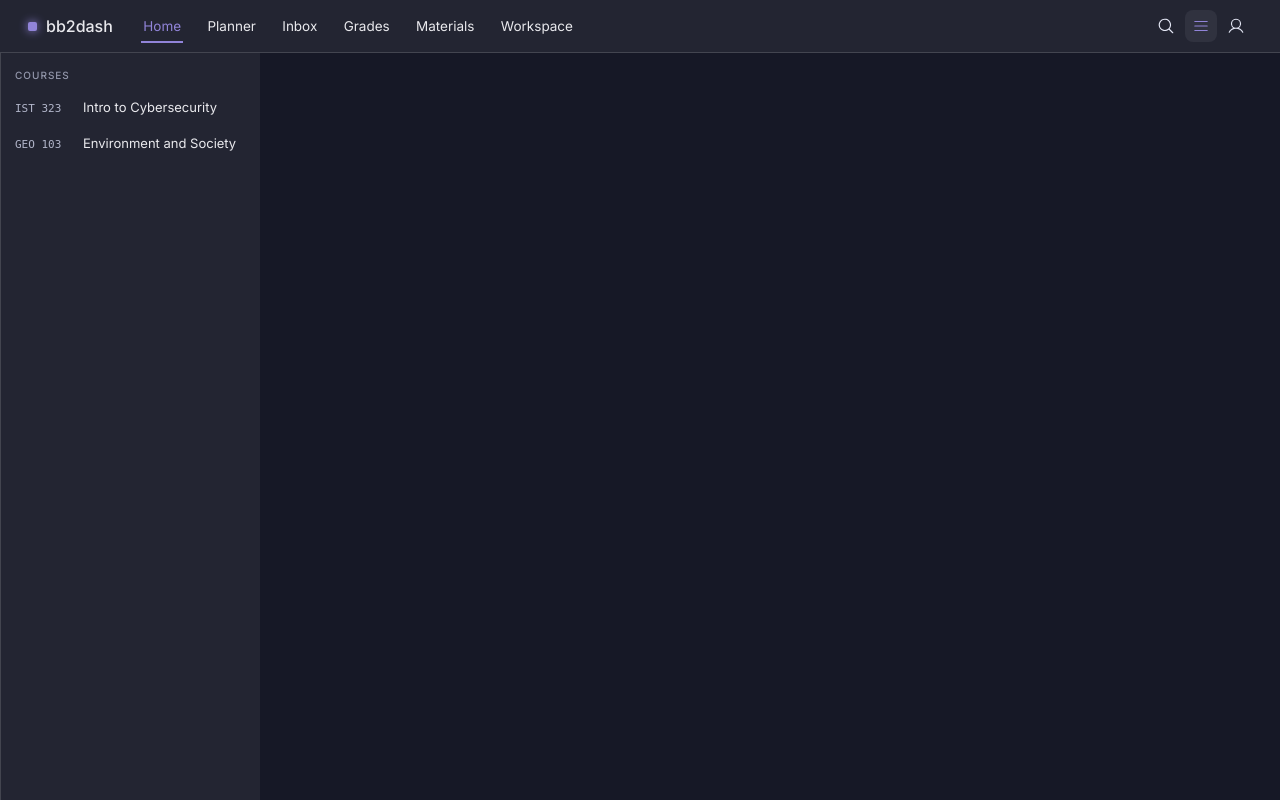
Scenario: TopNav — the account menu (usePopover, reshaped in Phase 17) › opens on click and says who is signed in
Step 1. Click the button named "Account" → (1236, 26), box [1220,10,1252,42]
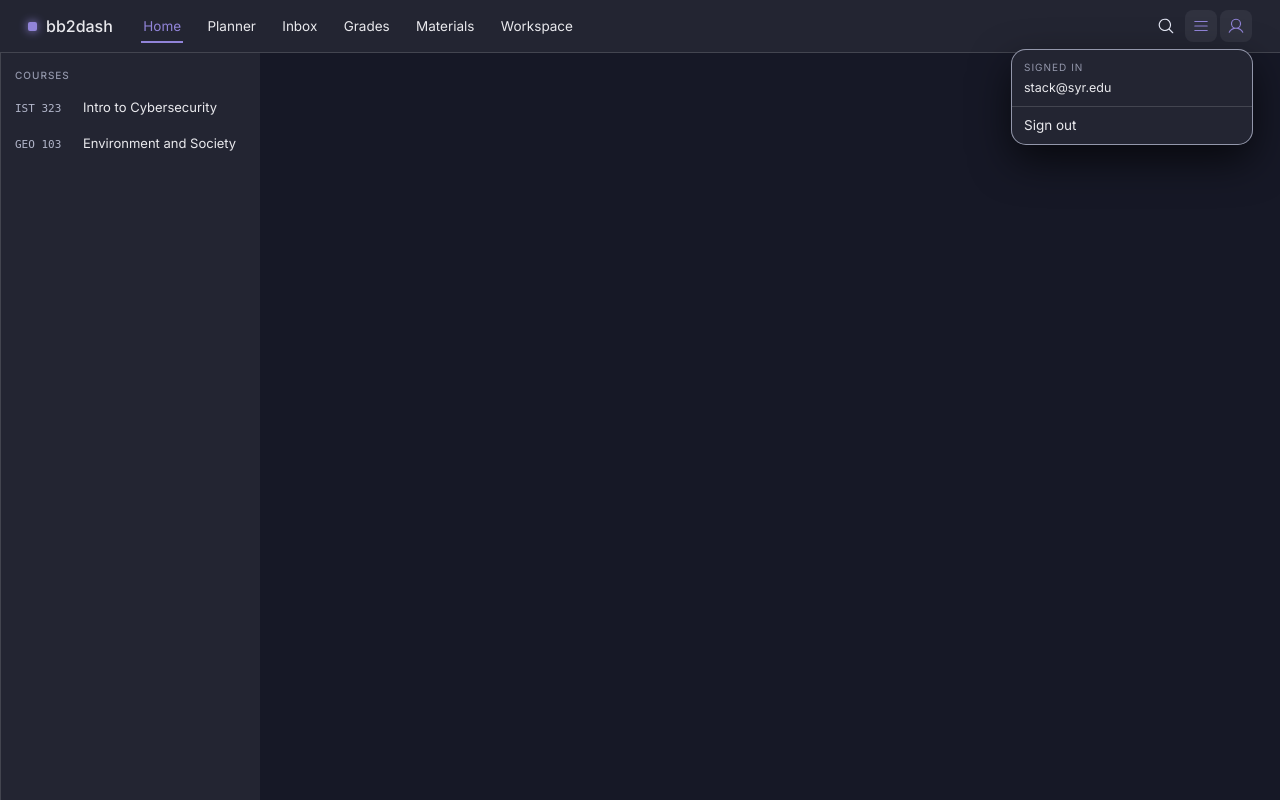
Now the button named "Account" is expanded, box [1220,10,1252,42]
Now the text "stack@syr.edu" is shown, box [1024,80,1111,95]
